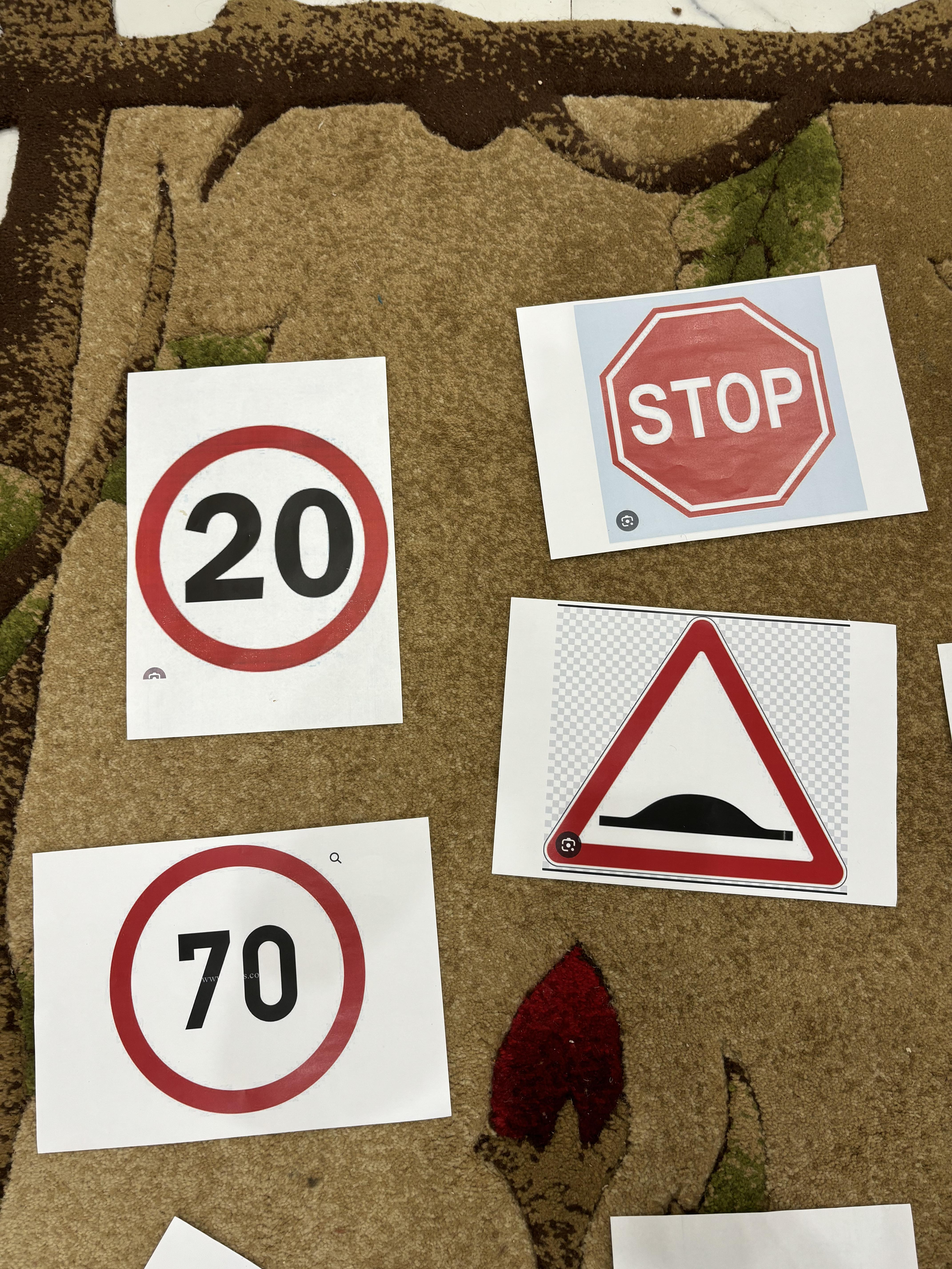20-Speed: (131, 420, 394, 675)
70-Speed: (106, 840, 378, 1116)
Hump: (534, 620, 856, 885)
Stop: (600, 296, 843, 524)
